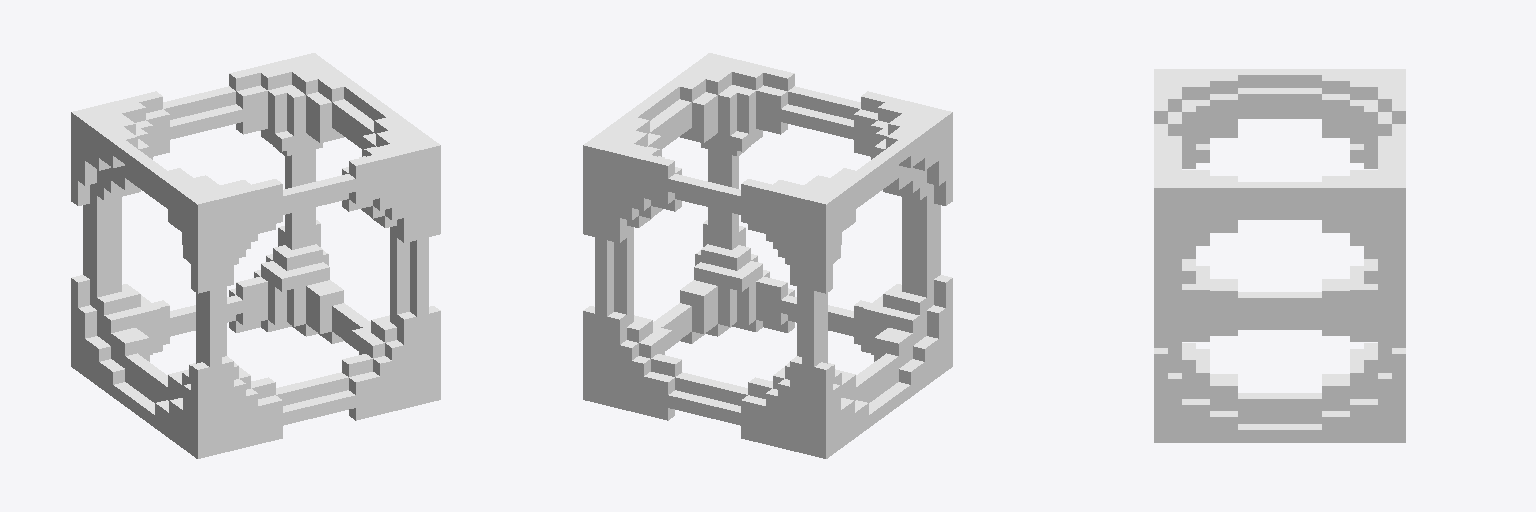
File: powerup_empty.obj
3 views of the same model, side by side, from view 1: azimuth 30°, elevation 25°; view 2: azimuth 150°, elevation 25°; view 3: azimuth 270°, elevation 25° (orthographic).
Bounding box in the file's own units: 20 × 20 × 18.